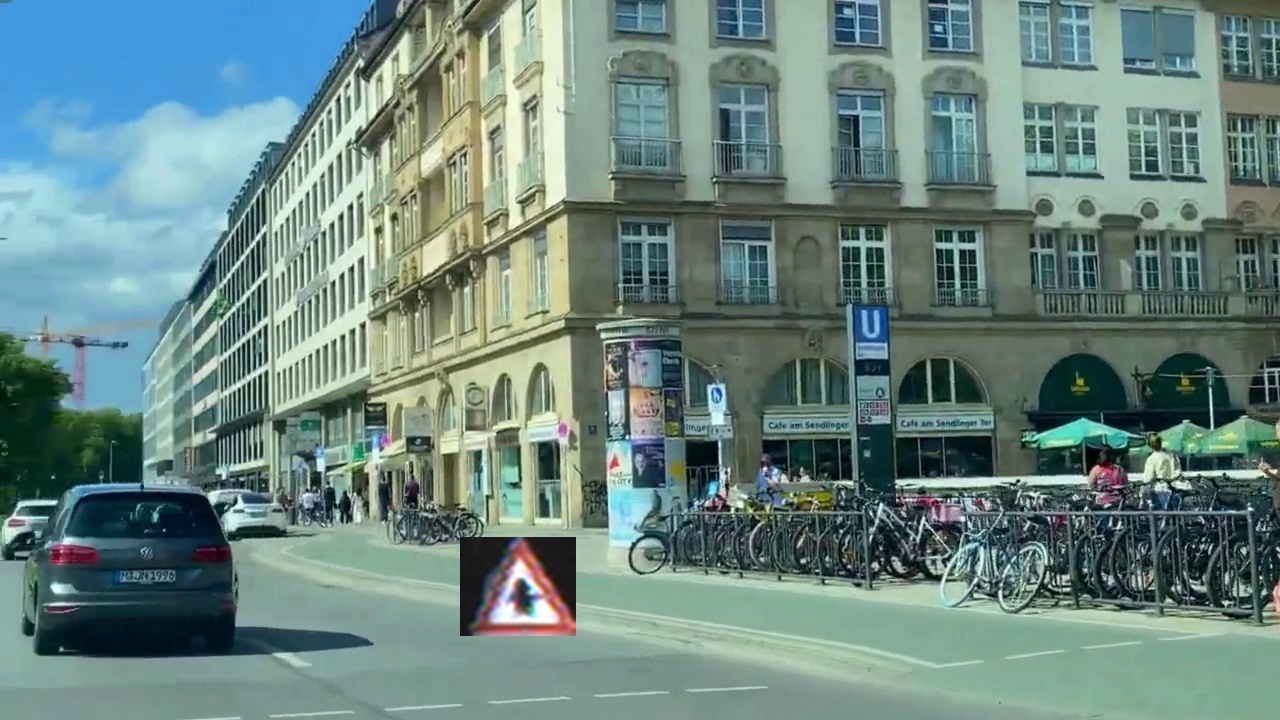Right-of-way: (460, 537, 576, 636)
